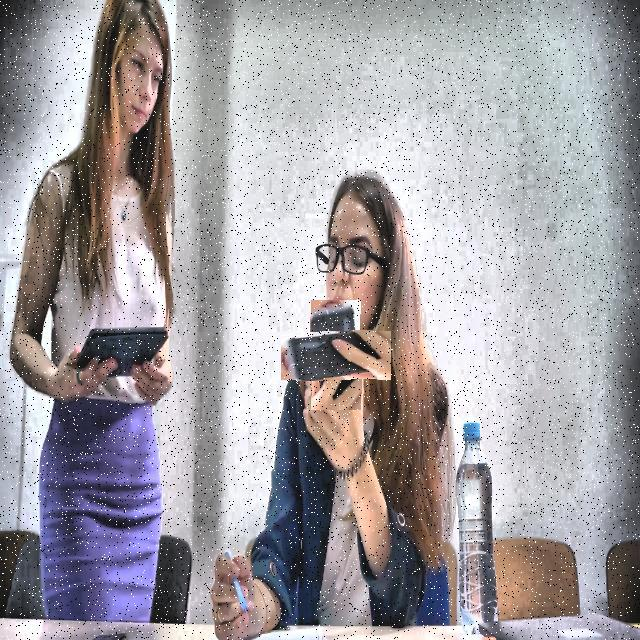Phone: (296, 314, 376, 396)
